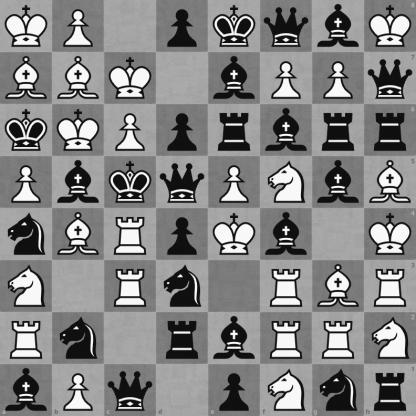B: (364, 156, 416, 209), (1, 53, 52, 104), (53, 53, 104, 104), (53, 209, 104, 260), (313, 261, 364, 312)
K: (364, 0, 416, 52), (364, 209, 416, 260), (1, 1, 52, 52), (53, 105, 104, 156), (105, 53, 156, 104), (209, 209, 260, 260)
N: (260, 364, 312, 416), (364, 312, 416, 364), (1, 261, 52, 312), (261, 157, 312, 208)
P: (52, 364, 104, 416), (1, 157, 52, 208), (53, 1, 104, 52), (105, 105, 156, 156), (209, 157, 260, 208), (261, 53, 312, 104), (313, 53, 364, 104)
R: (364, 260, 416, 312), (1, 313, 52, 364), (105, 209, 156, 260), (105, 261, 156, 312), (261, 261, 312, 312), (261, 313, 312, 364), (313, 313, 364, 364)
b: (0, 364, 52, 416), (53, 157, 104, 208), (209, 53, 260, 104), (209, 313, 260, 364), (261, 105, 312, 156), (261, 209, 312, 260), (313, 1, 364, 52), (313, 157, 364, 208)
board: (0, 0, 415, 415)
k: (1, 105, 52, 156), (105, 157, 156, 208), (209, 1, 260, 52)
n: (312, 364, 364, 416), (1, 209, 52, 260), (53, 313, 104, 364), (157, 261, 208, 312)
p: (209, 364, 260, 416), (157, 1, 208, 52), (157, 105, 208, 156), (157, 209, 208, 260)
q: (104, 364, 156, 416), (364, 52, 416, 104), (157, 157, 208, 208), (261, 1, 312, 52)
r: (364, 104, 416, 156), (364, 364, 416, 416), (157, 313, 208, 364), (209, 105, 260, 156), (313, 105, 364, 156)
